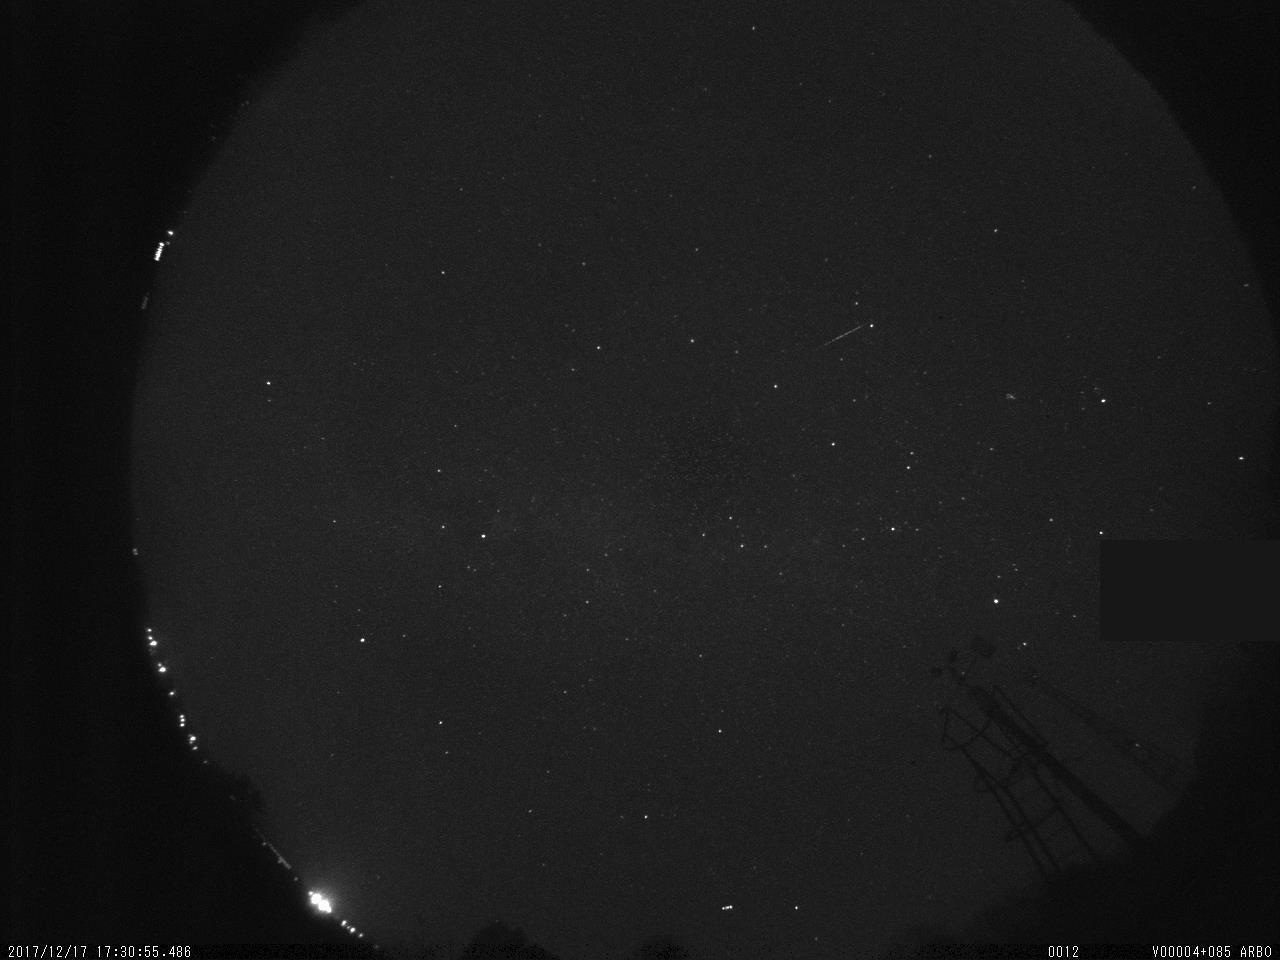meteor: (813, 322, 867, 350)
